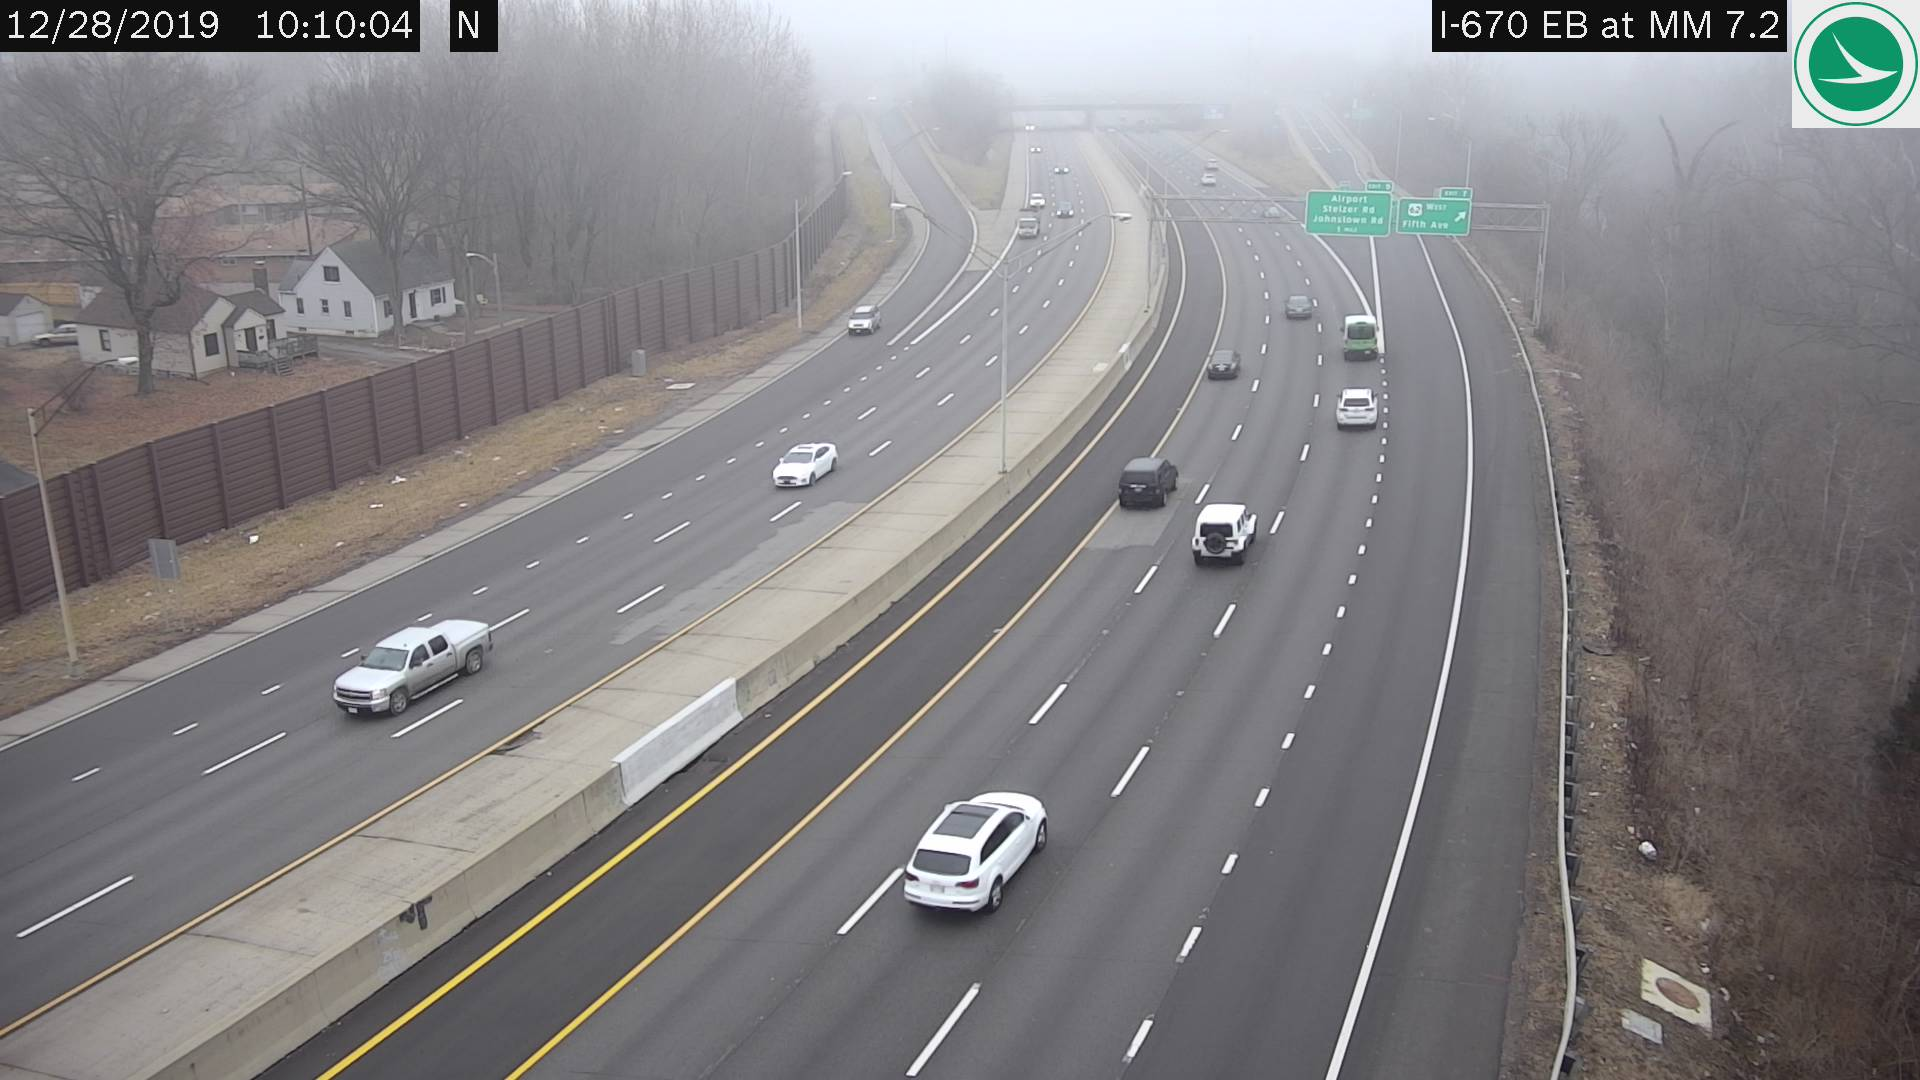car: (902, 789, 1050, 924), (334, 620, 491, 720), (1189, 504, 1254, 564), (1118, 456, 1178, 512), (774, 440, 833, 488), (1335, 384, 1374, 429), (1342, 313, 1374, 356), (847, 305, 878, 336), (1207, 348, 1238, 376), (1286, 295, 1309, 320), (1014, 216, 1038, 236), (1056, 200, 1073, 215), (1029, 191, 1044, 206), (1200, 170, 1215, 185)
